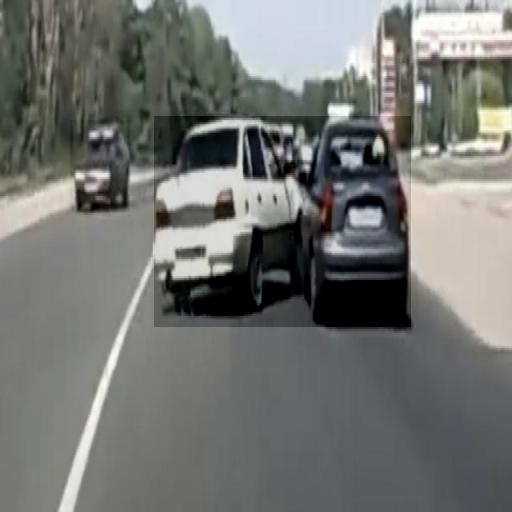小汽车: (70, 120, 130, 212)
小汽车撞小汽车: (154, 116, 411, 327)
